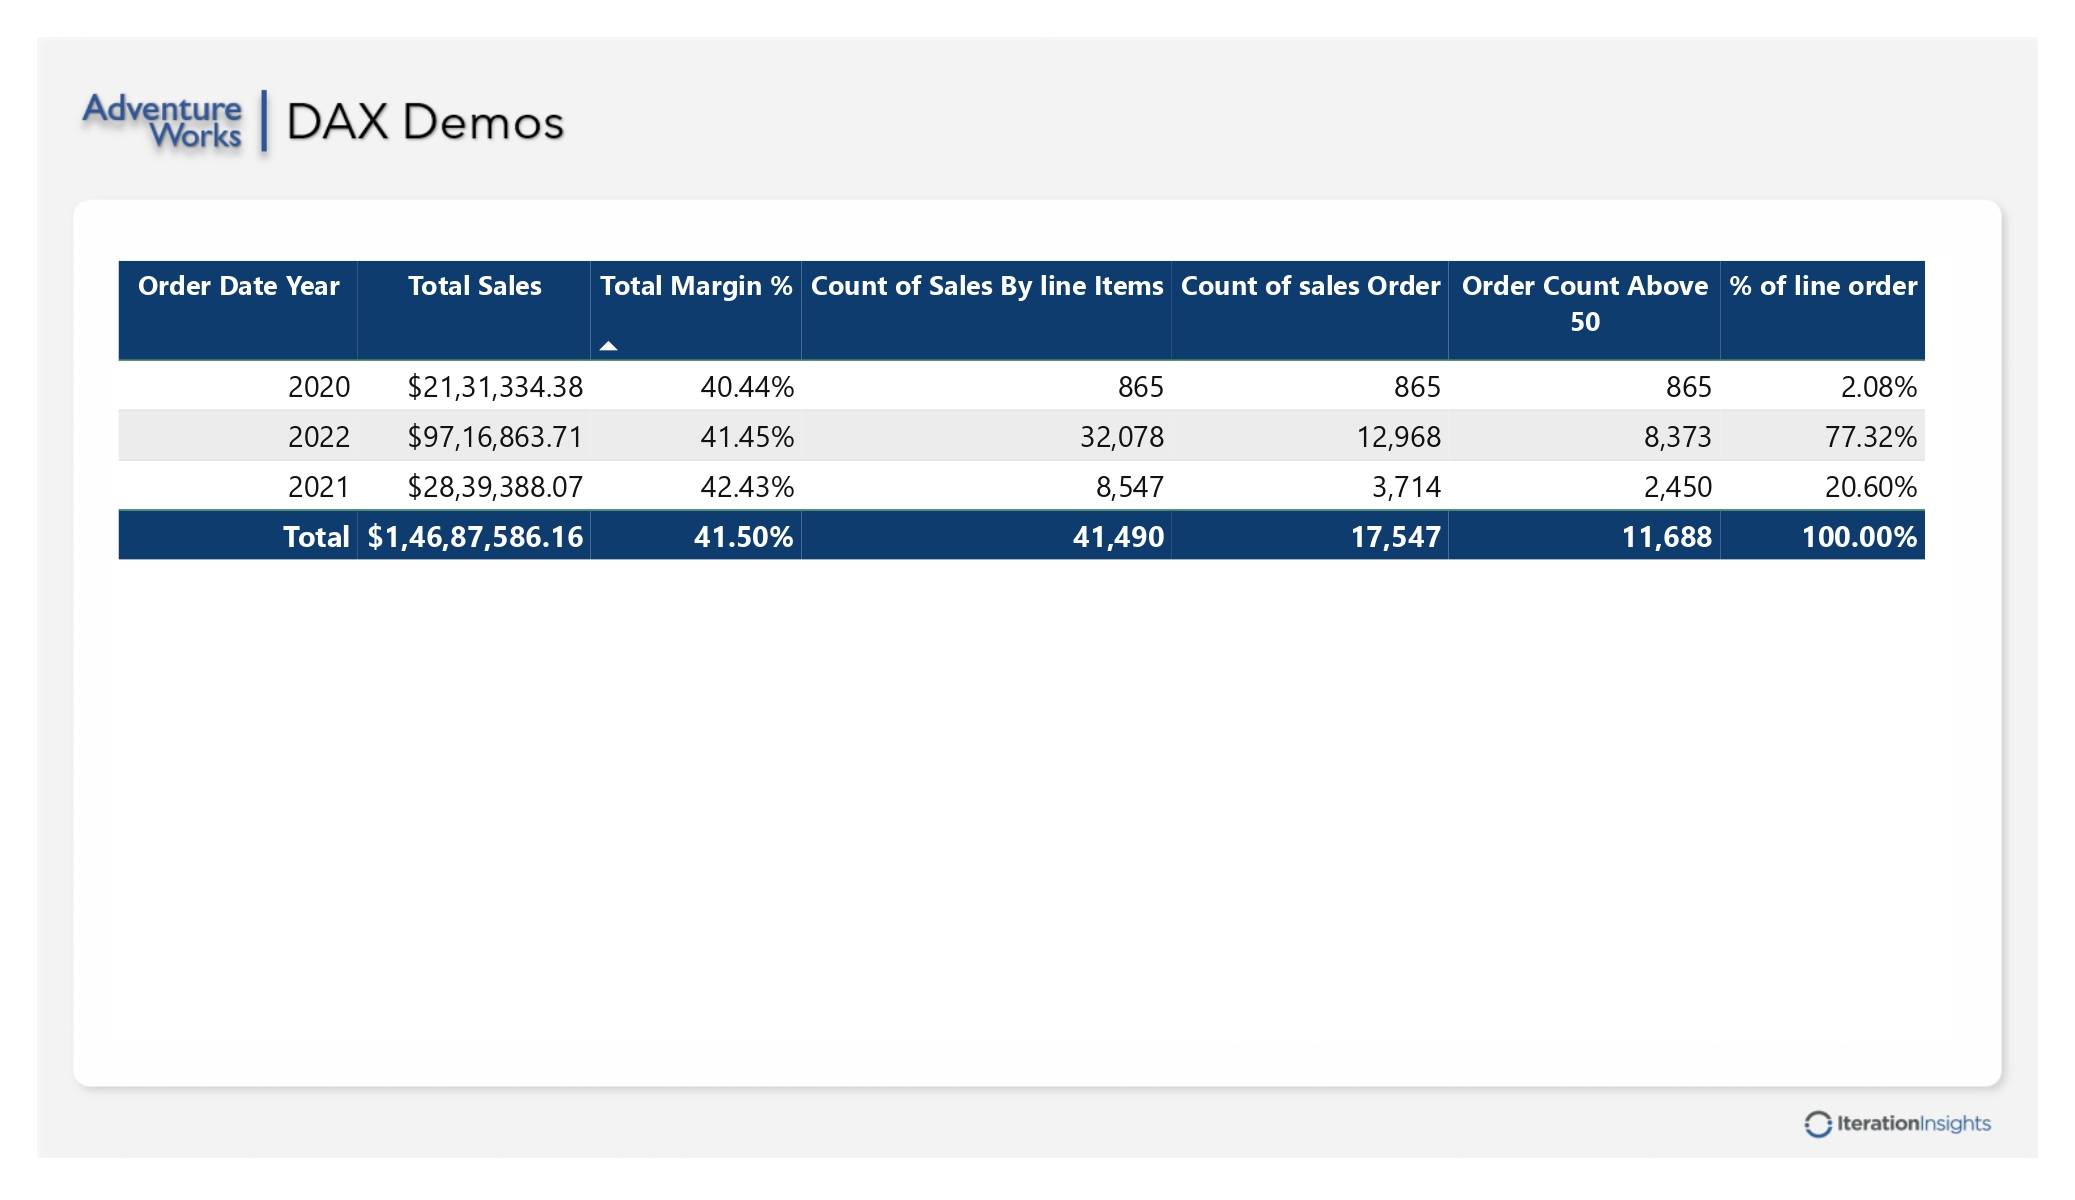

The page's visual inventory and layout, read from the dashboard file:
{"tool":"powerbi","page":{"name":"Dax Demo ","canvas":[1280,720],"ordinal":1},"visuals":[{"type":"tableEx","fields":{"Values":["Order Date.Order Date Year","Sales.Total Sales","Sales.Total Margin %","Sales.Count of Sales By line Items","Sales.Count of sales Order","Sales.Order Count Above 50","Sales.% of line order"]},"box":[45.6,138.1,1179.9,506.9],"z":0}]}

Visuals, with their boxes on the page's 1280x720 design canvas (x1, y1, x2, y2). These are canvas units, not pixel positions in the 2075x1200 screenshot, which may show the page scaled, cropped or inside an application window:
tableEx - Order Date.Order Date Year x Sales.Total Sales: x1=46, y1=138, x2=1226, y2=645
